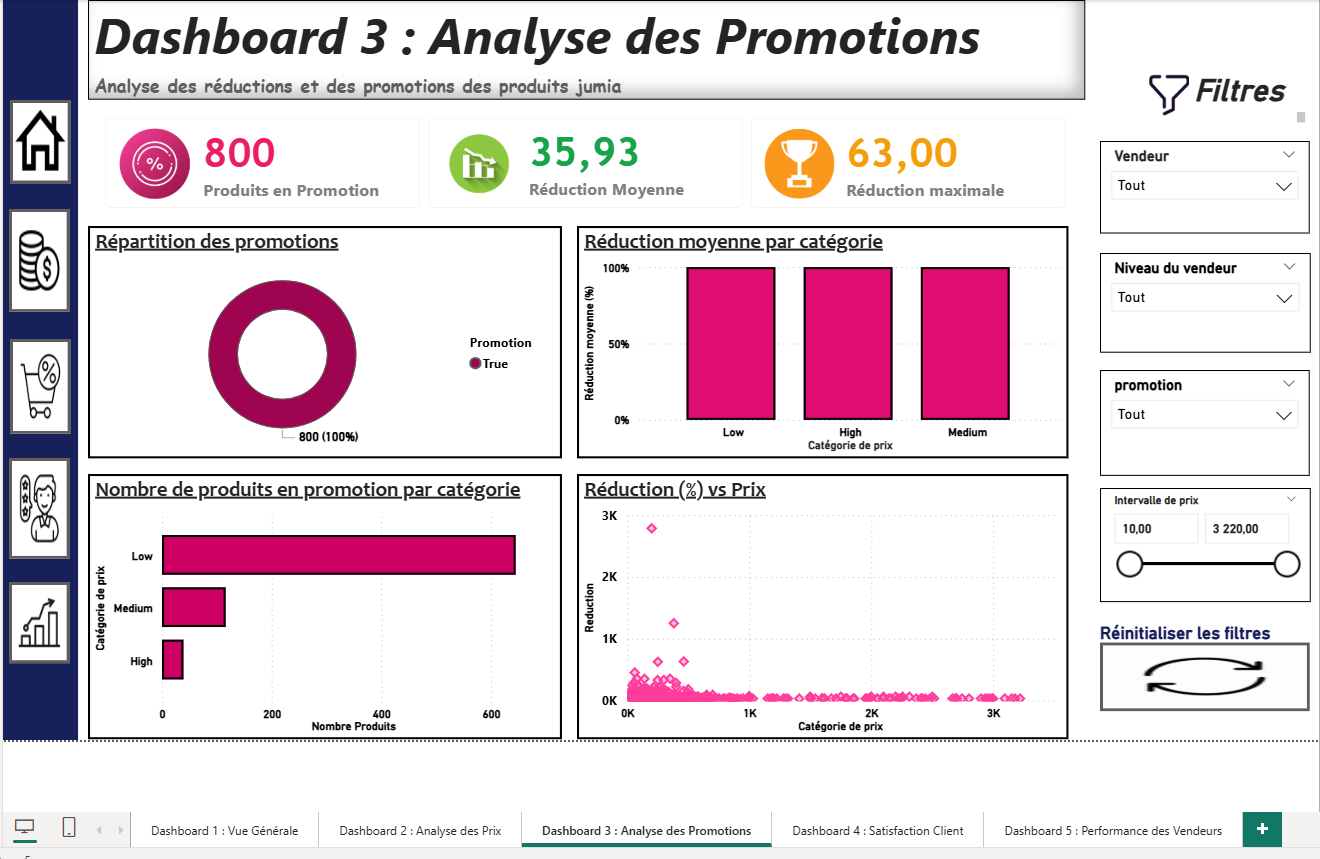

This screenshot's page, from the dashboard's own definition file:
{"tool":"powerbi","page":{"name":"Dashboard 3 : Analyse des Promotions","canvas":[1280,720],"ordinal":2},"visuals":[{"type":"actionButton","title":"Réinitialiser les filtres","box":[1066.9,605.6,204.1,85.7],"z":0},{"type":"textbox","box":[0,0,73.3,719.5],"z":1000},{"type":"actionButton","box":[6.8,97,58.6,81.2],"z":2000},{"type":"actionButton","box":[5.6,203,58.6,100.4],"z":3000},{"type":"actionButton","box":[6.8,329.3,58.6,92.5],"z":4000},{"type":"actionButton","box":[5.6,445.5,58.6,98.1],"z":5000},{"type":"actionButton","box":[5.6,566.1,58.6,78.9],"z":6000},{"type":"textbox","title":"Dashboard 3 : Analyse des Promotions","box":[82.3,0,969.9,97],"z":7000},{"type":"cardVisual","fields":{"Data":["vue generale.Produits en Promotion","Analyse des Prix.Réduction Moyenne","Promotions.Réduction maximale"]},"box":[82.3,97,969.9,122.9],"z":8000},{"type":"image","box":[1104.1,68.8,60.9,47.4],"z":9000},{"type":"textbox","title":"Filtres ","box":[1153.7,69.9,118.4,54.1],"z":10000},{"type":"donutChart","title":"Répartition des promotions","fields":{"Category":["dw fact_products.is_discounted"],"Y":["vue generale.Nombre Produits"]},"box":[82.3,219.9,461.3,225.6],"z":11000},{"type":"barChart","title":"Nombre de produits en promotion par catégorie","fields":{"Category":["dw dim_product.price_category"],"Y":["vue generale.Nombre Produits"]},"box":[82.3,461.3,461.3,258.3],"z":12000},{"type":"hundredPercentStackedColumnChart","title":"Réduction moyenne par catégorie","fields":{"Category":["dw dim_product.price_category"],"Y":["Analyse des Prix.Réduction Moyenne"]},"box":[558.2,219.9,478.2,225.6],"z":13000},{"type":"scatterChart","title":"Réduction (%) vs Prix","fields":{"X":["dw fact_products.new_price"],"Y":["Sum(dw fact_products.percent_discount)"]},"box":[558.2,461.3,478.2,258.3],"z":14000},{"type":"slicer","fields":{"Values":["dw dim_vendor.seller_id"]},"box":[1066.9,137.6,204.1,90.2],"z":15000},{"type":"slicer","fields":{"Values":["dw fact_products.is_discounted"]},"box":[1066.9,359.8,204.1,102.6],"z":16000},{"type":"slicer","fields":{"Values":["dw dim_vendor.seller_level"]},"box":[1066.7,246,204.6,96.6],"z":17000},{"type":"slicer","fields":{"Values":["dw fact_products.new_price"]},"box":[1066.7,474.7,204.6,111.5],"z":18000}]}

Visuals, with their boxes on the page's 1280x720 design canvas (x1, y1, x2, y2). These are canvas units, not pixel positions in the 1320x859 screenshot, which may show the page scaled, cropped or inside an application window:
"Réinitialiser les filtres" actionButton: left=1067, top=606, right=1271, bottom=691
textbox: left=0, top=0, right=73, bottom=720
actionButton: left=7, top=97, right=65, bottom=178
actionButton: left=6, top=203, right=64, bottom=303
actionButton: left=7, top=329, right=65, bottom=422
actionButton: left=6, top=446, right=64, bottom=544
actionButton: left=6, top=566, right=64, bottom=645
"Dashboard 3 : Analyse des Promotions" textbox: left=82, top=0, right=1052, bottom=97
cardVisual - vue generale.Produits en Promotion x Analyse des Prix.Réduction Moyenne: left=82, top=97, right=1052, bottom=220
image: left=1104, top=69, right=1165, bottom=116
"Filtres " textbox: left=1154, top=70, right=1272, bottom=124
"Répartition des promotions" donutChart: left=82, top=220, right=544, bottom=446
"Nombre de produits en promotion par catégorie" barChart: left=82, top=461, right=544, bottom=720
"Réduction moyenne par catégorie" hundredPercentStackedColumnChart: left=558, top=220, right=1036, bottom=446
"Réduction (%) vs Prix" scatterChart: left=558, top=461, right=1036, bottom=720
slicer - dw dim_vendor.seller_id: left=1067, top=138, right=1271, bottom=228
slicer - dw fact_products.is_discounted: left=1067, top=360, right=1271, bottom=462
slicer - dw dim_vendor.seller_level: left=1067, top=246, right=1271, bottom=343
slicer - dw fact_products.new_price: left=1067, top=475, right=1271, bottom=586
